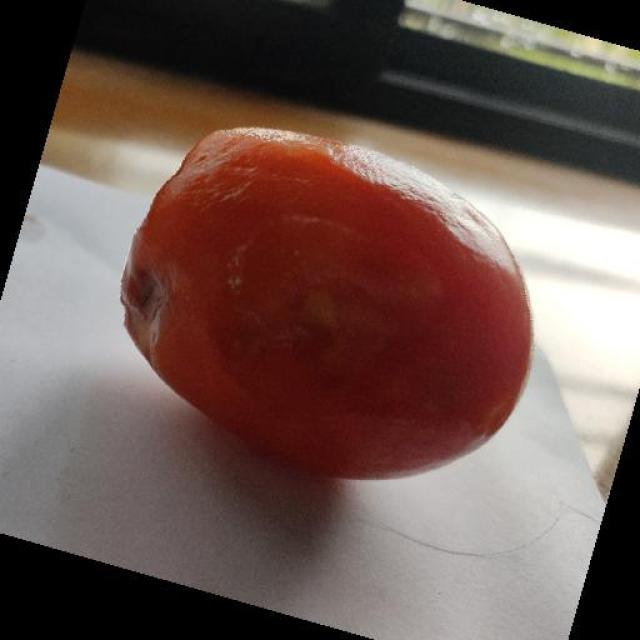Stale_tomato: (129, 81, 532, 482)
